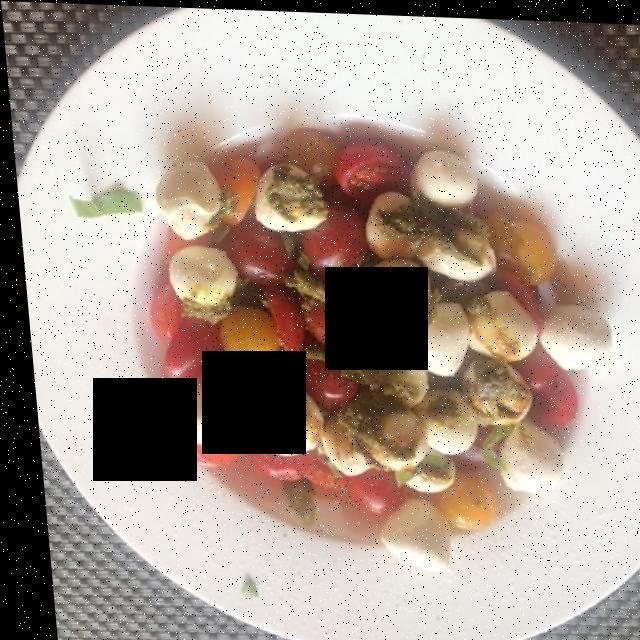caprese-salad-tomato-mozzarella: (152, 140, 584, 556)
sauce-pesto: (171, 157, 518, 489)
